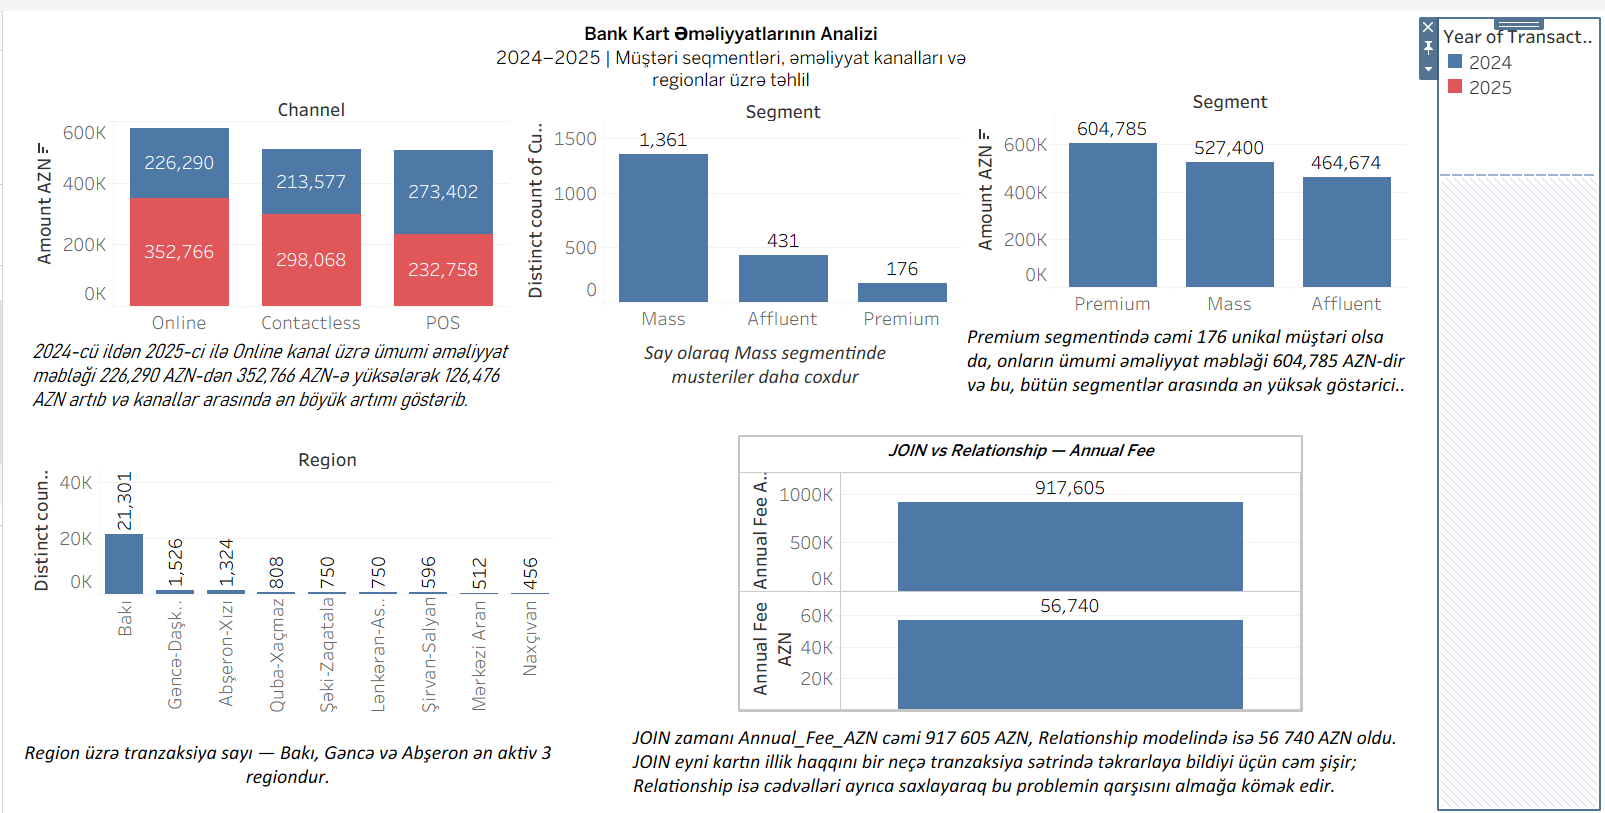

What the dashboard file says about the page in this screenshot:
{"tool":"tableau","page":{"name":"Dashboard","canvas":[1000,1000],"units":"permille","ordinal":0},"visuals":[{"type":"text","box":[285.2,9.9,337.8,95.5]},{"type":"legend","title":"T2-Channel","param":"[federated.0revqbz00p7twd1cmyvth01x86tc].[yr:Transaction_DateTime:ok]","box":[898.5,9.9,96.7,192.3]},{"type":"worksheet","title":"T3-Segment Amount","mark":"Automatic","rows":["Amount_AZN"],"cols":["Segment"],"box":[600,99.3,274.9,279.2]},{"type":"worksheet","title":"T2-Channel","mark":"Automatic","rows":["Amount_AZN"],"cols":["Channel"],"box":[13.3,109.2,302.1,292.8]},{"type":"worksheet","title":"T3-Segment Customer","mark":"Automatic","rows":["Customer_ID"],"cols":["Segment"],"box":[319,111.7,278.6,285.4]},{"type":"text","box":[598.8,380.9,282.8,106.7]},{"type":"text","box":[15.7,400.7,304.5,104.2]},{"type":"text","box":[340.2,406.9,267.1,63.3]},{"type":"worksheet","title":"T5","mark":"Automatic","rows":["Annual_Fee_AZN","Annual_Fee_AZN"],"box":[459.2,528.5,349.9,338.7]},{"type":"worksheet","title":"T4-Region Tranzaksiyalari","mark":"Automatic","rows":["Transaction_ID"],"cols":["Region"],"box":[11.5,543.4,332.9,328.8]},{"type":"text","box":[390.3,874.7,497.9,114.1]},{"type":"text","box":[8.5,899.5,337.8,72]}]}

Visuals, with their boxes on the dashboard's canvas, which has no fixed pixel size, in thousandths of its width and height (x1, y1, x2, y2). These are canvas units, not pixel positions in the 1605x813 screenshot, which may show the page scaled, cropped or inside an application window:
text: {"x1": 285, "y1": 10, "x2": 623, "y2": 105}
"T2-Channel" legend: {"x1": 898, "y1": 10, "x2": 995, "y2": 202}
"T3-Segment Amount" worksheet: {"x1": 600, "y1": 99, "x2": 875, "y2": 378}
"T2-Channel" worksheet: {"x1": 13, "y1": 109, "x2": 315, "y2": 402}
"T3-Segment Customer" worksheet: {"x1": 319, "y1": 112, "x2": 598, "y2": 397}
text: {"x1": 599, "y1": 381, "x2": 882, "y2": 488}
text: {"x1": 16, "y1": 401, "x2": 320, "y2": 505}
text: {"x1": 340, "y1": 407, "x2": 607, "y2": 470}
"T5" worksheet: {"x1": 459, "y1": 528, "x2": 809, "y2": 867}
"T4-Region Tranzaksiyalari" worksheet: {"x1": 12, "y1": 543, "x2": 344, "y2": 872}
text: {"x1": 390, "y1": 875, "x2": 888, "y2": 989}
text: {"x1": 8, "y1": 900, "x2": 346, "y2": 972}
